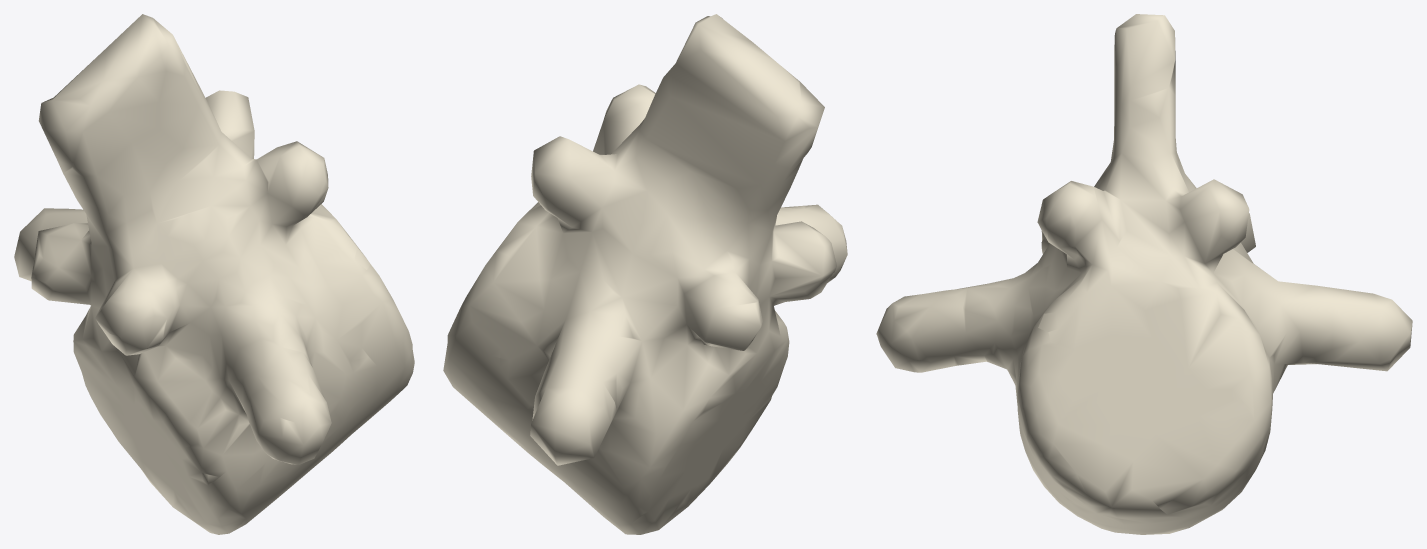
File: cervical_6.glb
3 views of the same model, side by side, from view 1: azimuth 30°, elevation 25°; view 2: azimuth 150°, elevation 25°; view 3: azimuth 270°, elevation 25° (orthographic). The views are drawn at different scales.
Parts seen in each view (by area): view 1: geometry_0; view 2: geometry_0; view 3: geometry_0.
Part boxes in pixels (x1,y1,x2,y2): geometry_0: (14, 14, 414, 534); geometry_0: (443, 14, 847, 534); geometry_0: (876, 14, 1412, 534).
Bounding box in the file's own units: 0.1495 × 0.2145 × 0.2107.
